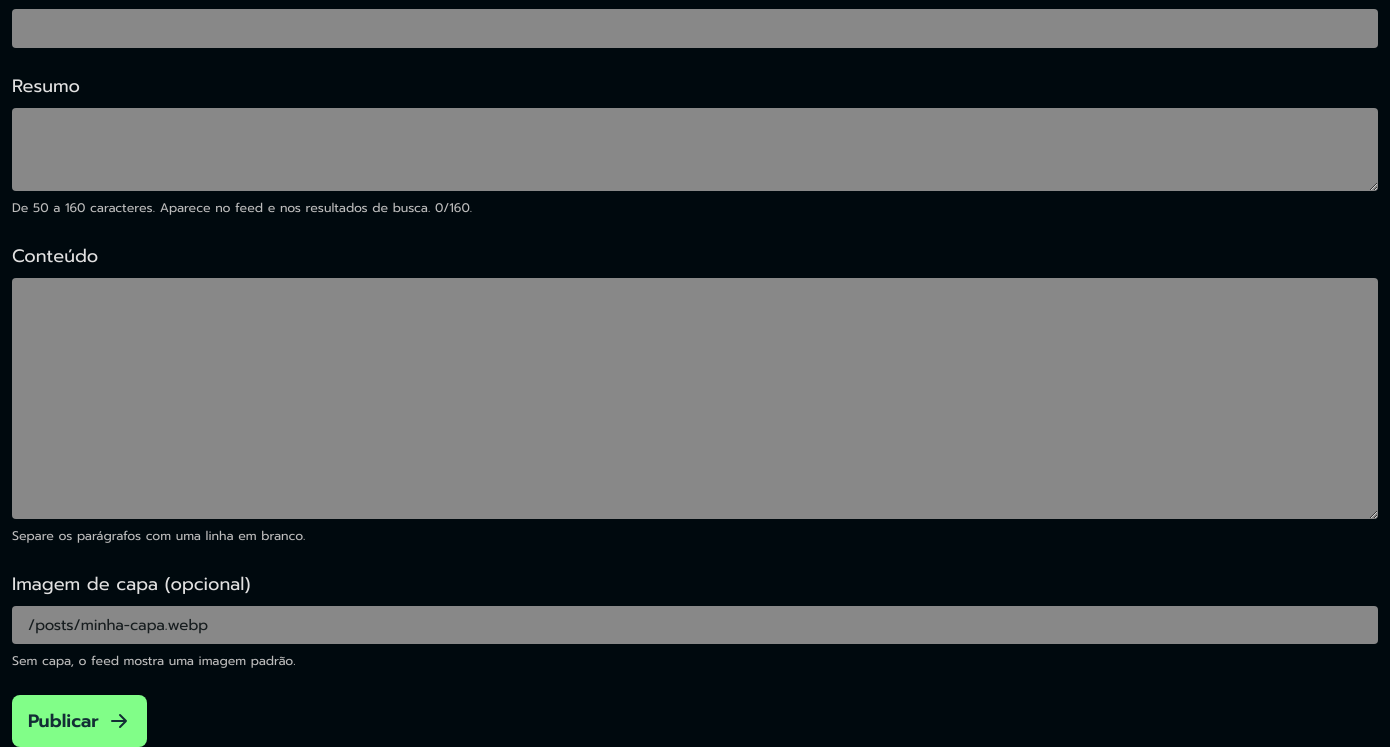
Test case: CreatePostForm › reports every invalid field at once
This screenshot has width=1390, height=747.
Click the button "Publicar" at (79, 721), box [12, 695, 147, 746]
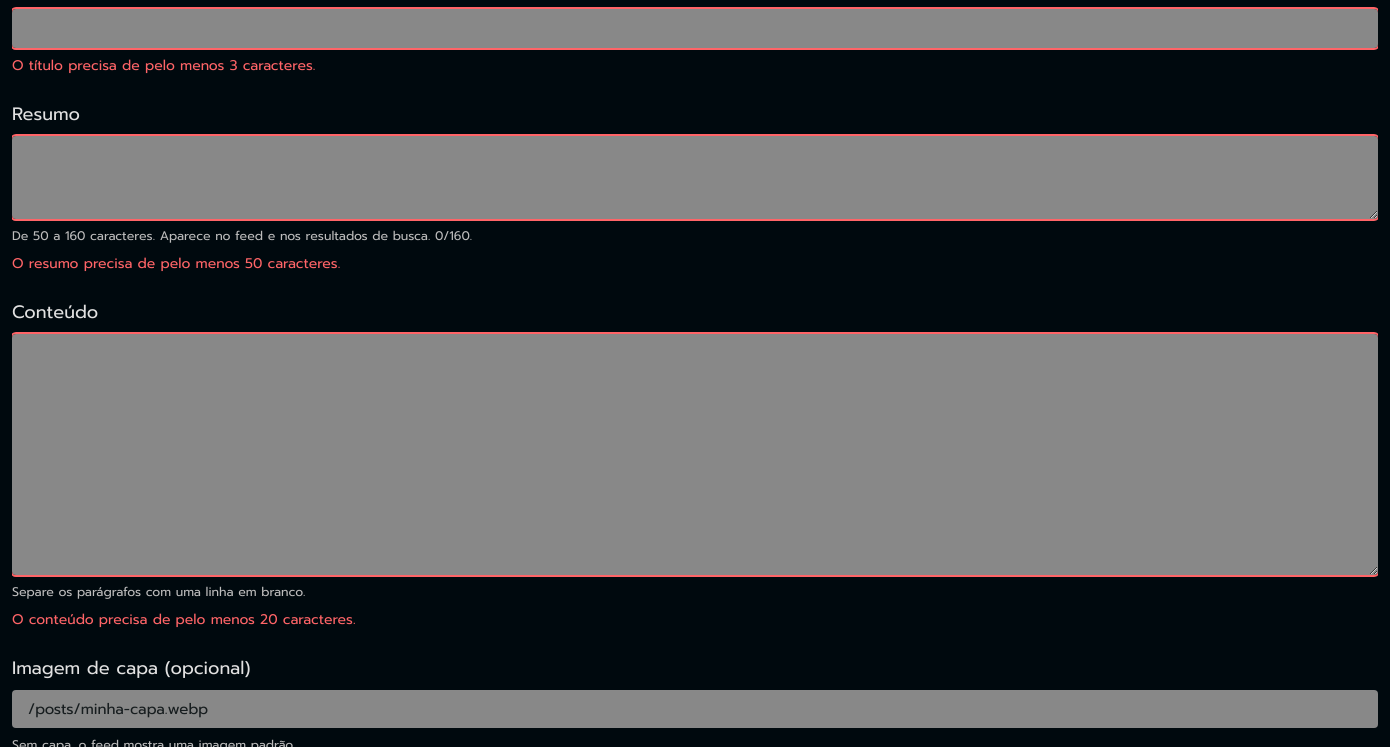
Now the number of messages is 3, box [12, 54, 315, 76]; [12, 253, 340, 274]; [12, 608, 356, 630]
